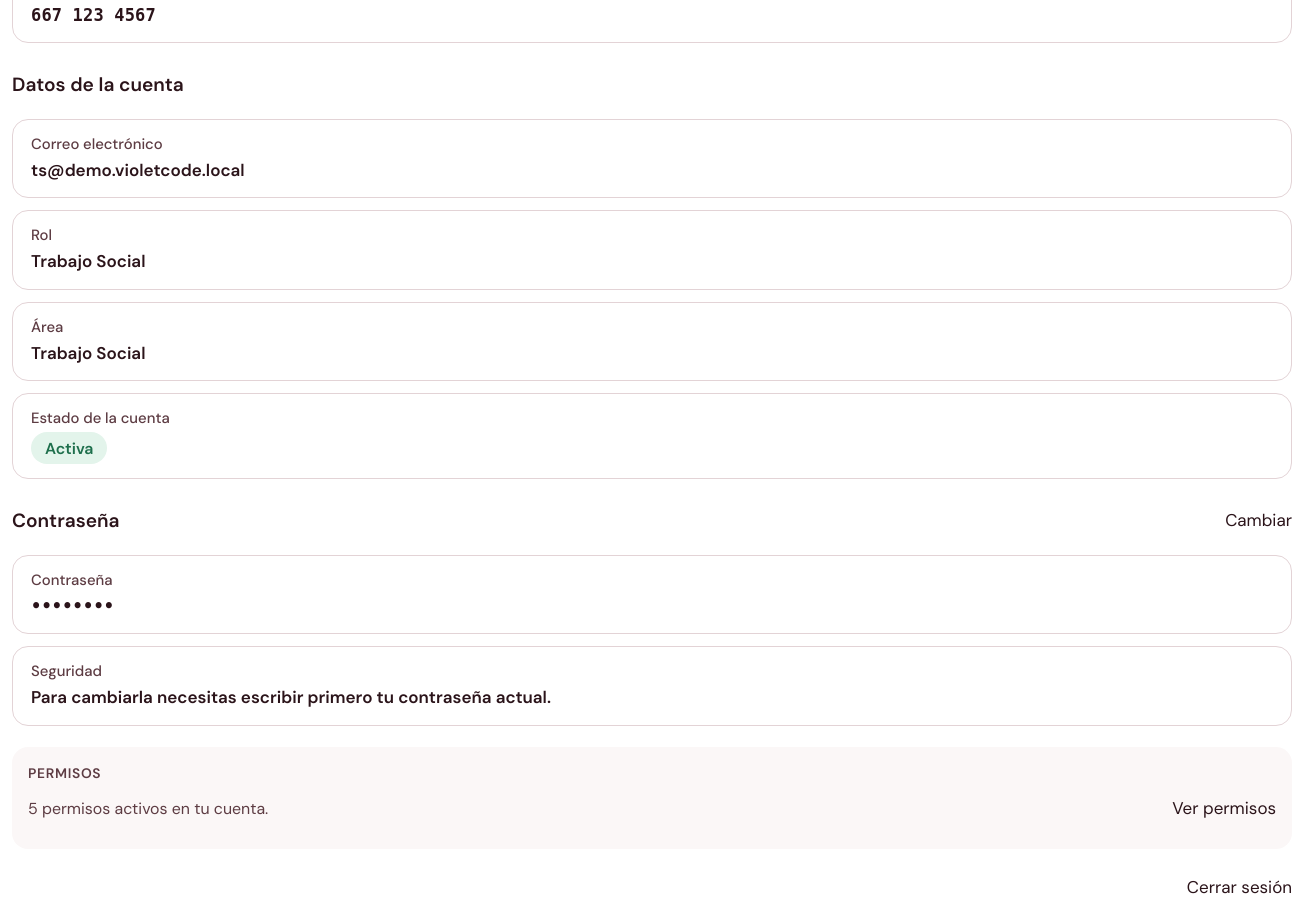
Test: PerfilCuentaSection › muestra los permisos plegados y los lista agrupados al pulsar «Ver permisos»
This screenshot has width=1304, height=900.
(page scrolled)
Check: the text "5 permisos activos en tu cuenta." is shown, box x1=28 y1=797 x2=268 y2=820
Check: the element "Expedientes" is not shown
Click the button "Ver permisos".
click(1224, 809)  # box x1=1172 y1=796 x2=1276 y2=821
(page scrolled)
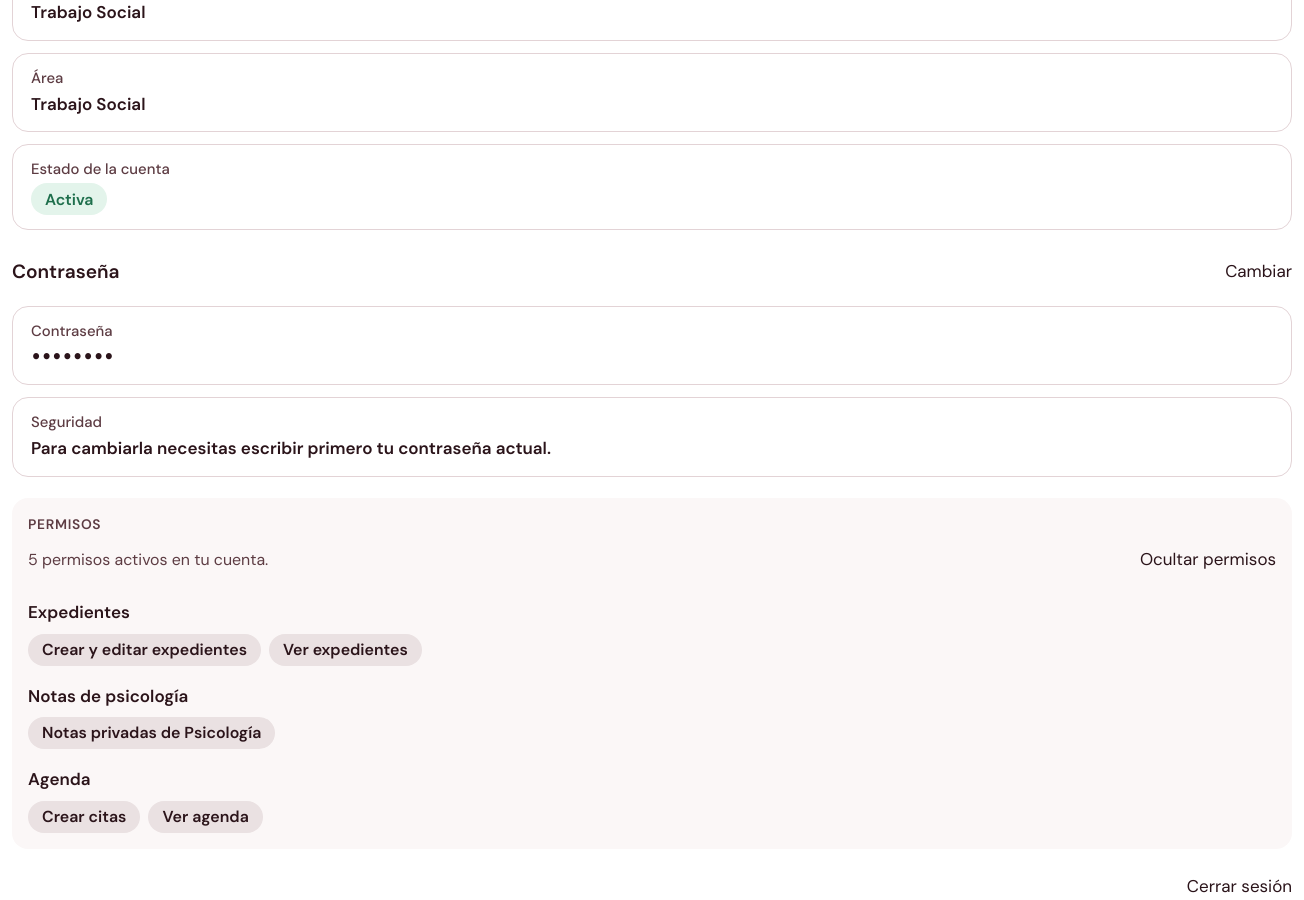
Check: the button "Ocultar permisos" is expanded, box x1=1140 y1=547 x2=1276 y2=572
Check: the text "Ver expedientes" is shown, box x1=269 y1=634 x2=422 y2=666
Check: the text "Crear y editar expedientes" is shown, box x1=28 y1=634 x2=261 y2=666
